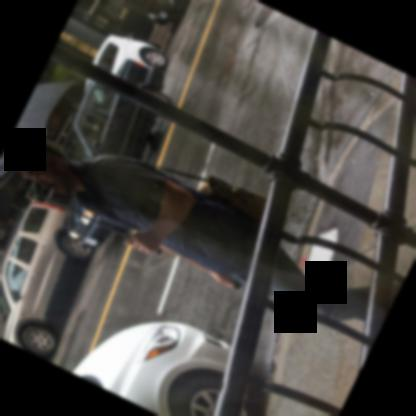handbag: (97, 155, 268, 224)
